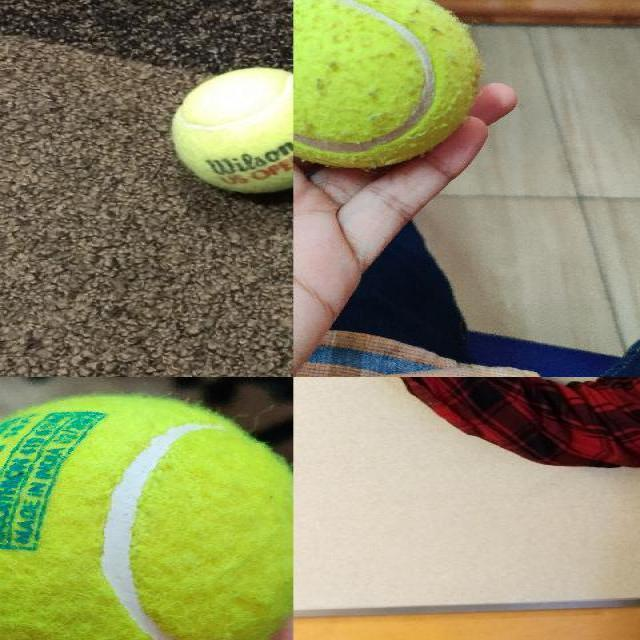tennis-ball: (0, 397, 292, 639), (293, 0, 483, 168), (169, 66, 291, 197)
